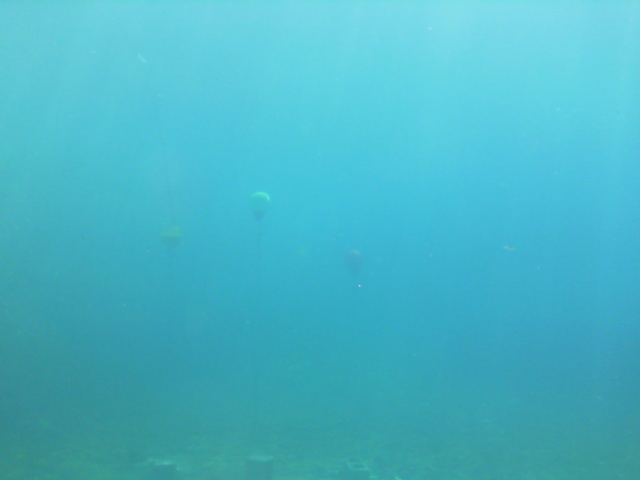buoy_green: (248, 189, 271, 220)
buoy_red: (343, 250, 364, 276)
buoy_yellow: (163, 223, 182, 248)
